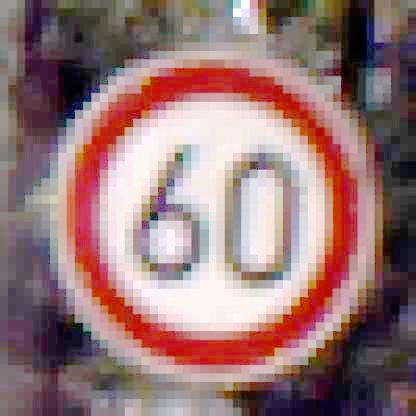Speed Limit -60-: (57, 48, 371, 383)
